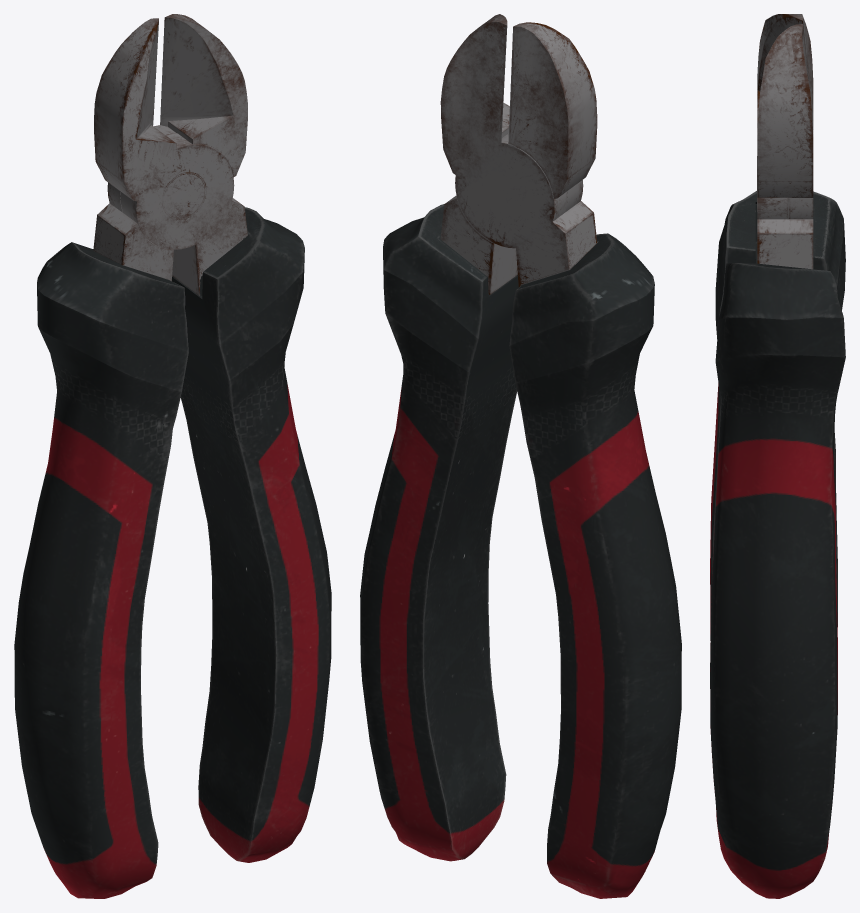
Rendered from plier.obj.
3 renders of one model, left to right at view 1: azimuth 30°, elevation 25°; view 2: azimuth 150°, elevation 25°; view 3: azimuth 270°, elevation 25°, orthographic. The views are drawn at different scales.
Visible parts, largest first — view 1: handle_right_LP_Mesh.006; view 2: handle_right_LP_Mesh.006; view 3: handle_right_LP_Mesh.006.
Part boxes in pixels (x1,y1,x2,y2): handle_right_LP_Mesh.006: (14,14,331,898); handle_right_LP_Mesh.006: (360,14,681,898); handle_right_LP_Mesh.006: (710,14,845,898).
Bounding box in the file's own units: 0.0719 × 0.1943 × 0.0287.
1 material, 1 textured.
